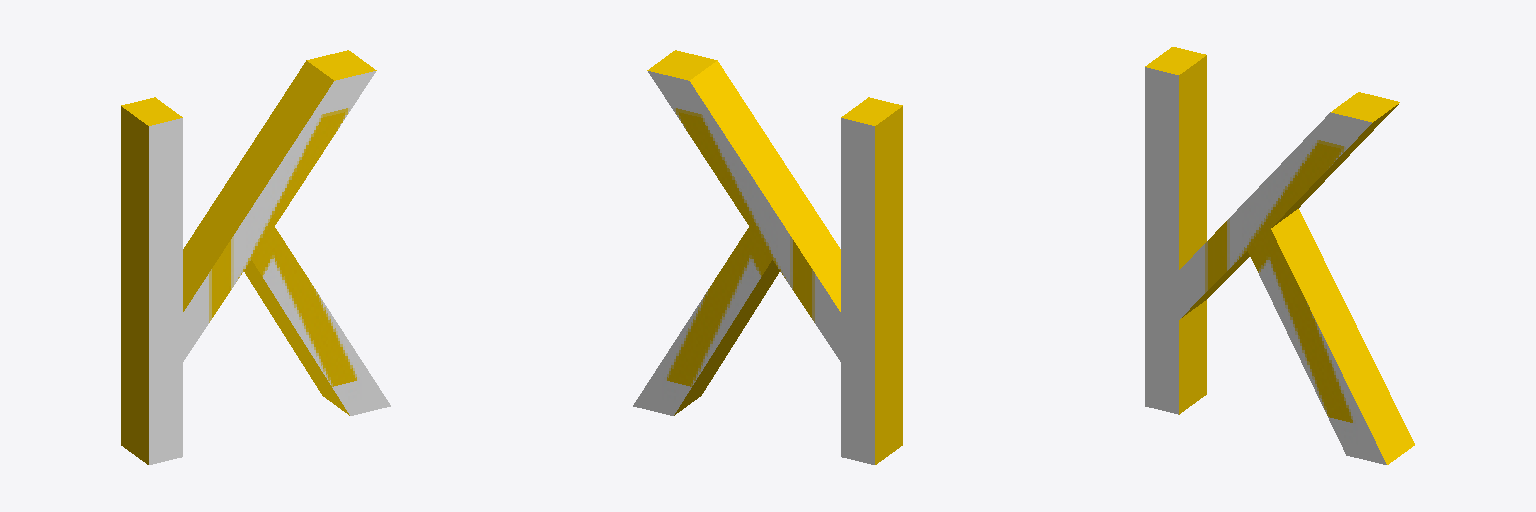
3 renders of one model, left to right at view 1: azimuth 30°, elevation 25°; view 2: azimuth 150°, elevation 25°; view 3: azimuth 330°, elevation 25°, orthographic.
Size of the model in its own units: 60.36 by 80.63 by 12.07.
Materials: 5 (1 with a texture image).